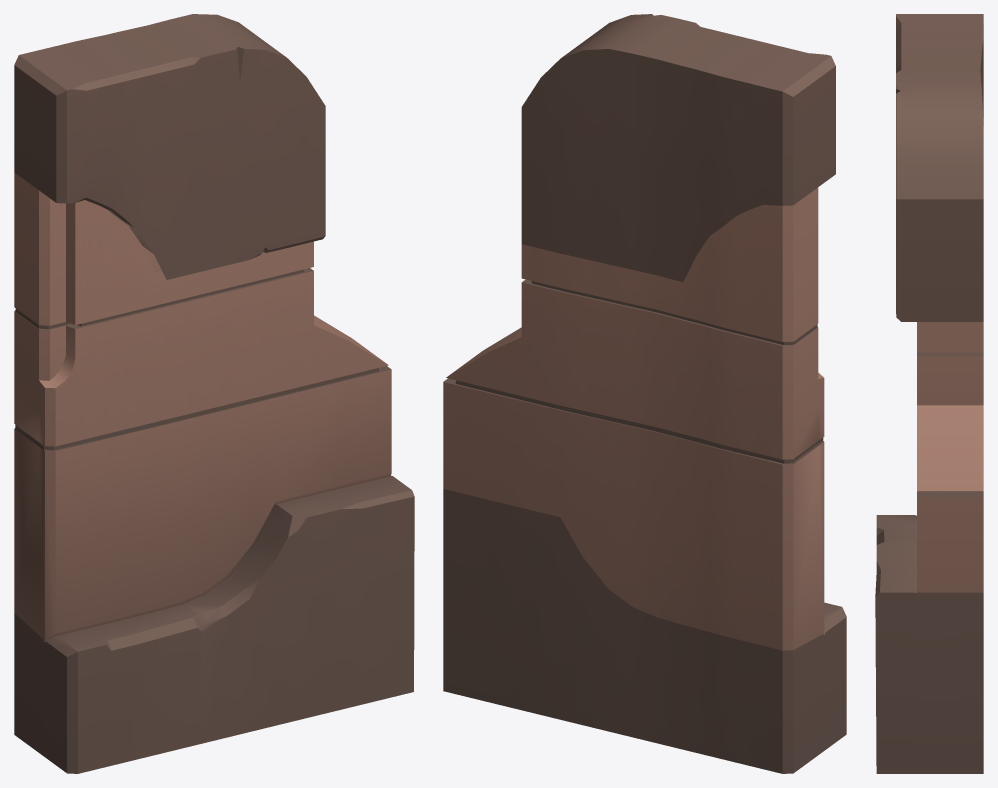
Rendered from obj_DoorBoss.fbx.
3 views of the same model, side by side, from view 1: azimuth 30°, elevation 25°; view 2: azimuth 150°, elevation 25°; view 3: azimuth 270°, elevation 25° (orthographic). The views are drawn at different scales.
Visible parts, largest first — view 1: Cube.080; view 2: Cube.080; view 3: Cube.080.
Boxes of the visible parts, x1,y1,x2,y2 form: Cube.080: [14, 14, 414, 773]; Cube.080: [443, 14, 846, 773]; Cube.080: [875, 14, 983, 773].
Bounding box in the file's own units: 181 × 340 × 54.64.
